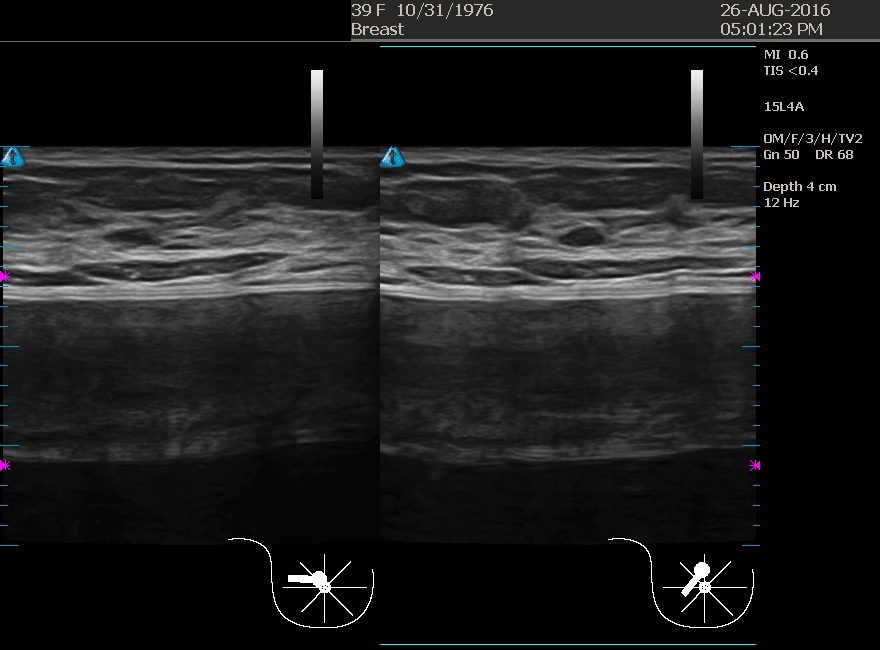BIRADS_2: (35, 150, 235, 350), (485, 155, 685, 355)
